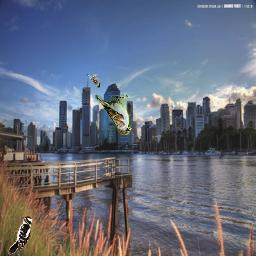Sparrow: (95, 95, 132, 135), (87, 74, 100, 88)
Woodpecker: (8, 216, 32, 256)
